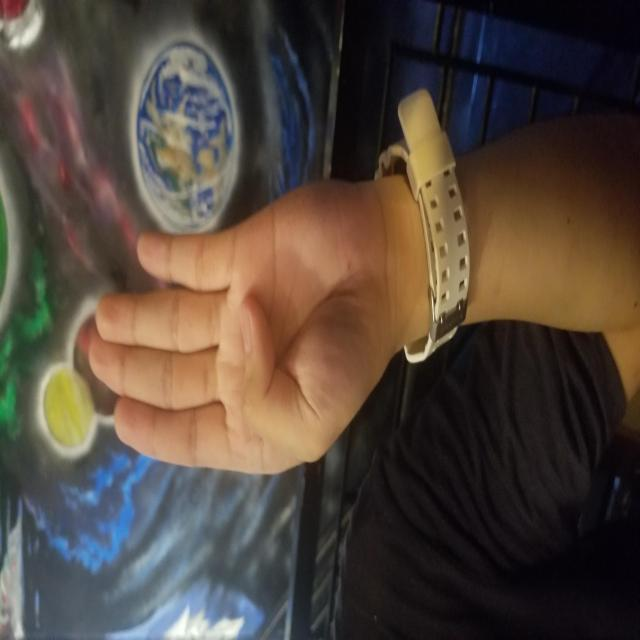B: (162, 87, 463, 382)
